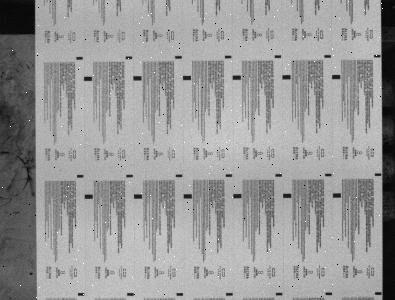backgroundclutter: (29, 272, 33, 275)
qblock: (232, 75, 241, 80), (283, 193, 292, 198), (84, 194, 93, 199), (183, 75, 191, 80), (84, 76, 92, 81), (133, 76, 141, 81), (134, 194, 142, 199), (282, 75, 291, 79), (332, 75, 341, 79), (233, 194, 242, 198), (183, 194, 192, 198), (333, 193, 341, 197)
smallqblock: (126, 292, 134, 296), (175, 55, 182, 59), (77, 174, 84, 178), (225, 55, 232, 59), (374, 54, 381, 58), (275, 173, 282, 177), (274, 55, 282, 58), (225, 174, 233, 177), (77, 293, 85, 296), (76, 57, 83, 60), (125, 56, 132, 59), (324, 55, 331, 58), (126, 174, 133, 177), (176, 174, 183, 177), (325, 173, 332, 176), (375, 173, 382, 176), (276, 292, 283, 295), (176, 293, 183, 296), (226, 293, 233, 296), (325, 292, 332, 295), (375, 292, 382, 295)
